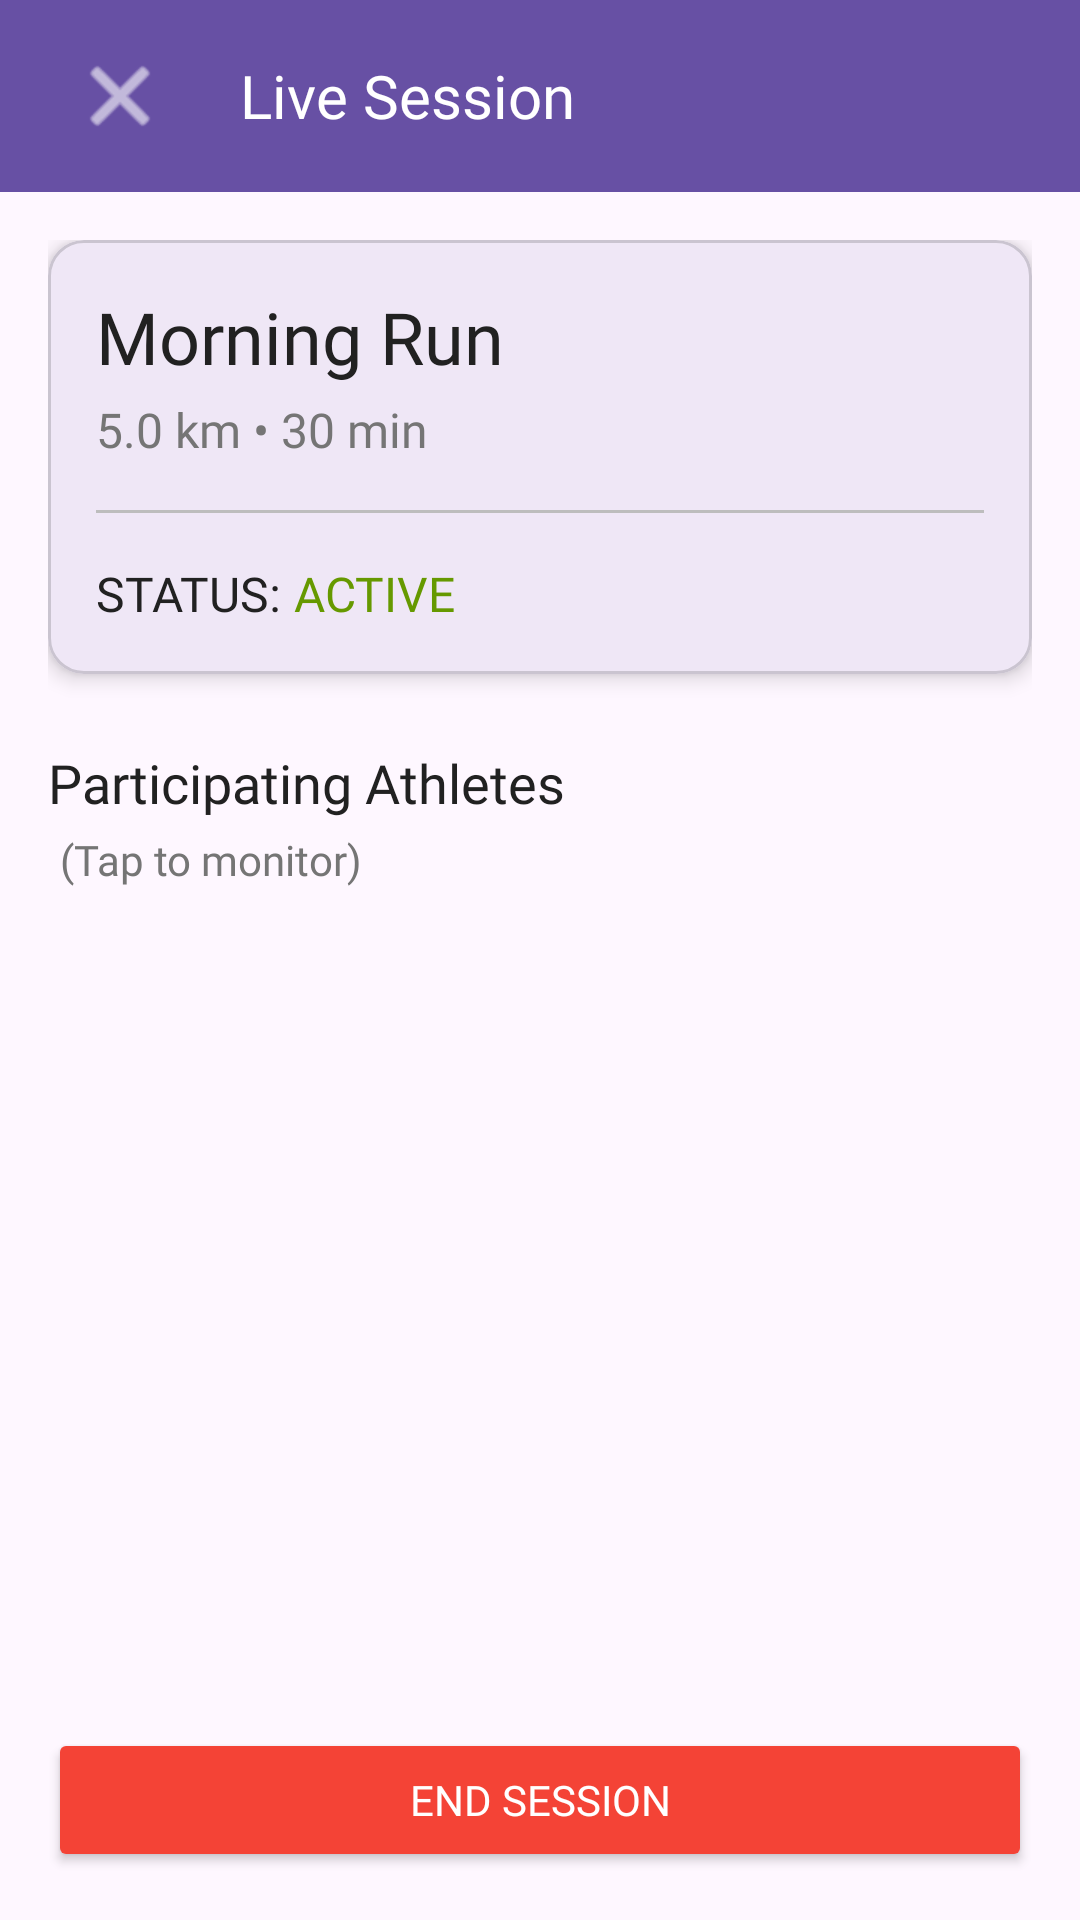

Where to tap for icons on this 1080 x 1920 app screen, as point (x, y):
Back: point (120, 96)
